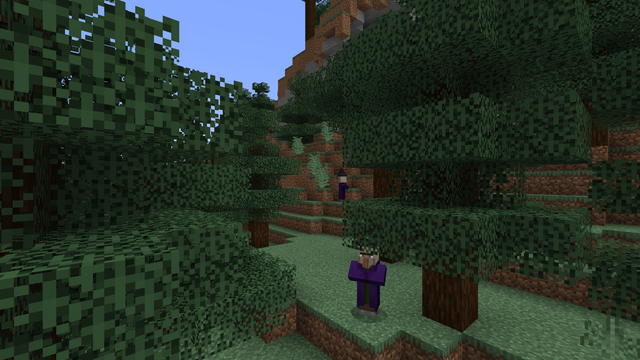sorcieres: (352, 254, 383, 320), (336, 175, 347, 201)
